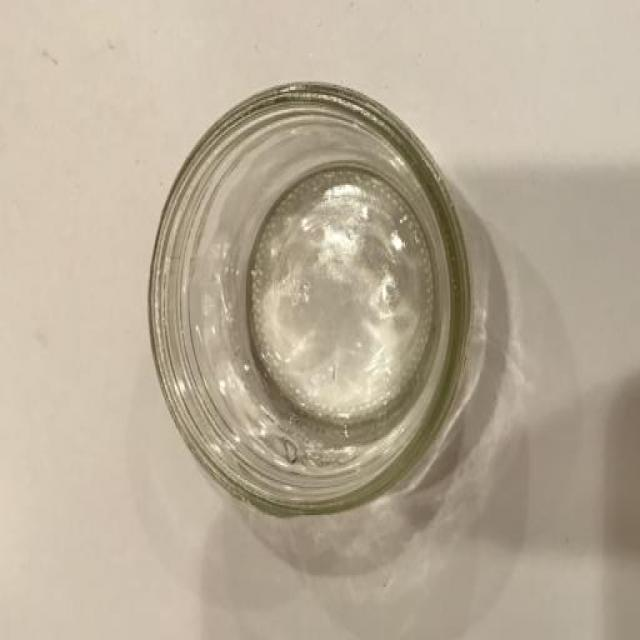Waste: (149, 83, 489, 518)
